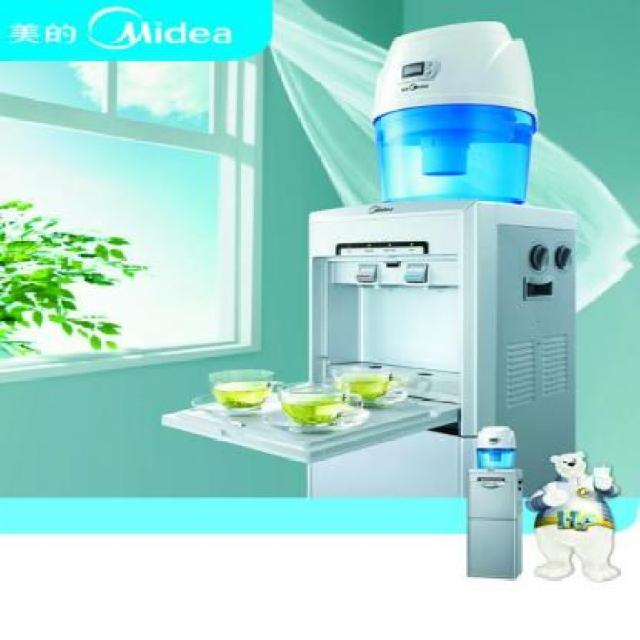cooler: (309, 20, 581, 497)
